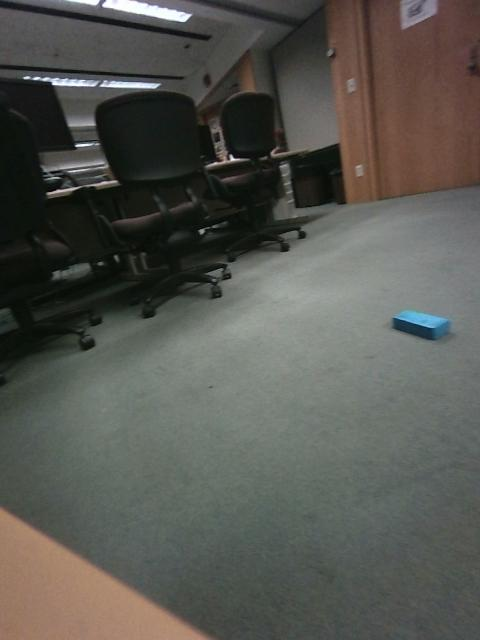block: (287, 278, 323, 305)
